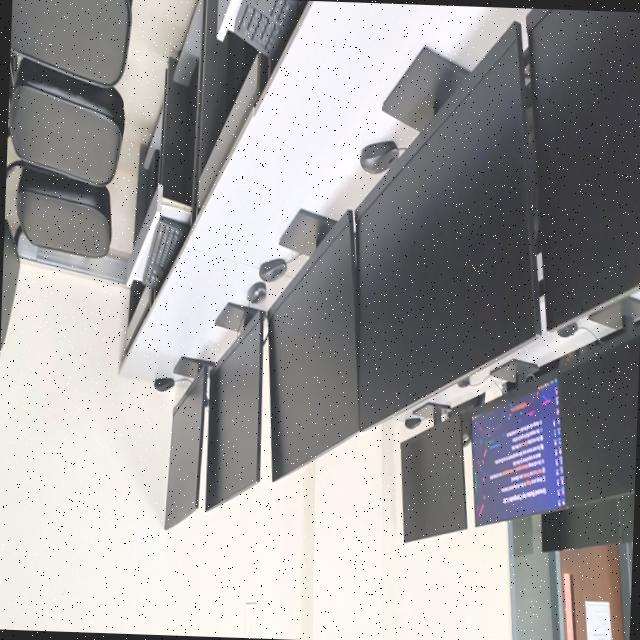Chair: (0, 160, 110, 347), (6, 50, 123, 184), (9, 0, 131, 86)
Keyboard: (232, 0, 305, 57), (142, 215, 188, 287), (258, 0, 263, 2), (285, 0, 288, 2)
Monitor: (356, 22, 539, 426), (526, 7, 640, 329), (267, 209, 358, 479), (556, 327, 640, 504), (471, 377, 564, 522), (205, 310, 265, 509), (399, 403, 466, 541), (163, 363, 209, 528), (540, 498, 619, 551), (617, 492, 634, 541)
Mouse: (359, 141, 397, 173), (258, 258, 286, 281), (246, 281, 265, 304), (556, 321, 577, 336), (153, 377, 173, 391), (404, 416, 420, 428)
